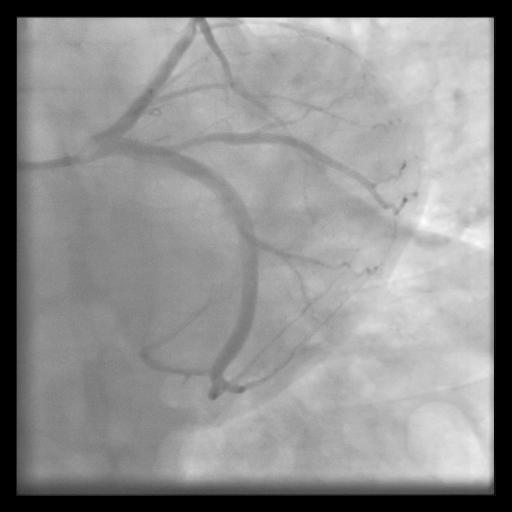Stenosis: (179, 130, 215, 144)
